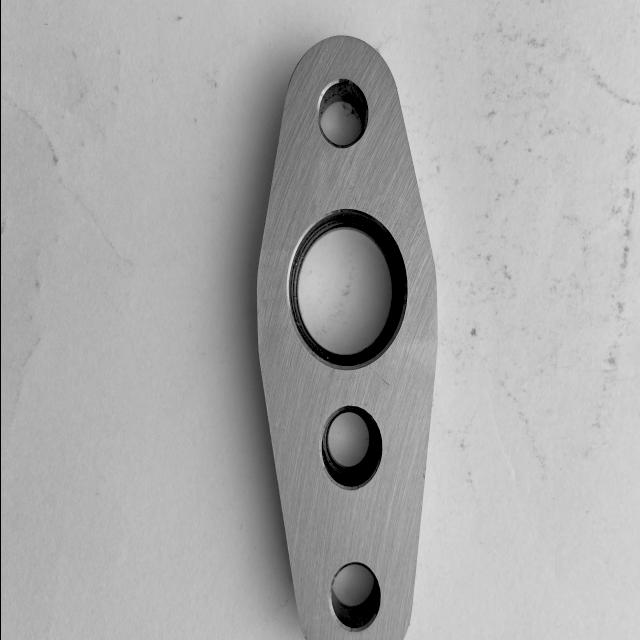chap: (372, 370, 392, 388)
